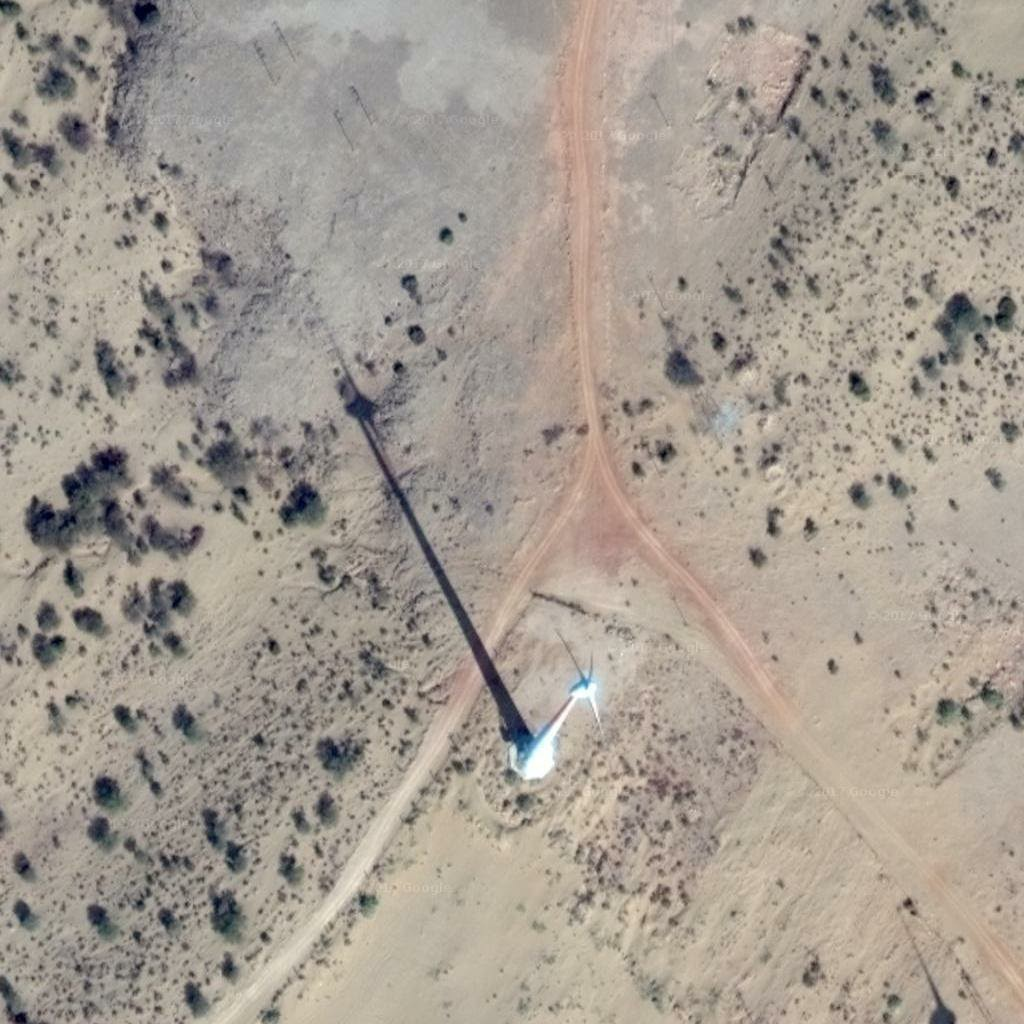Windmill: (297, 330, 507, 683)
